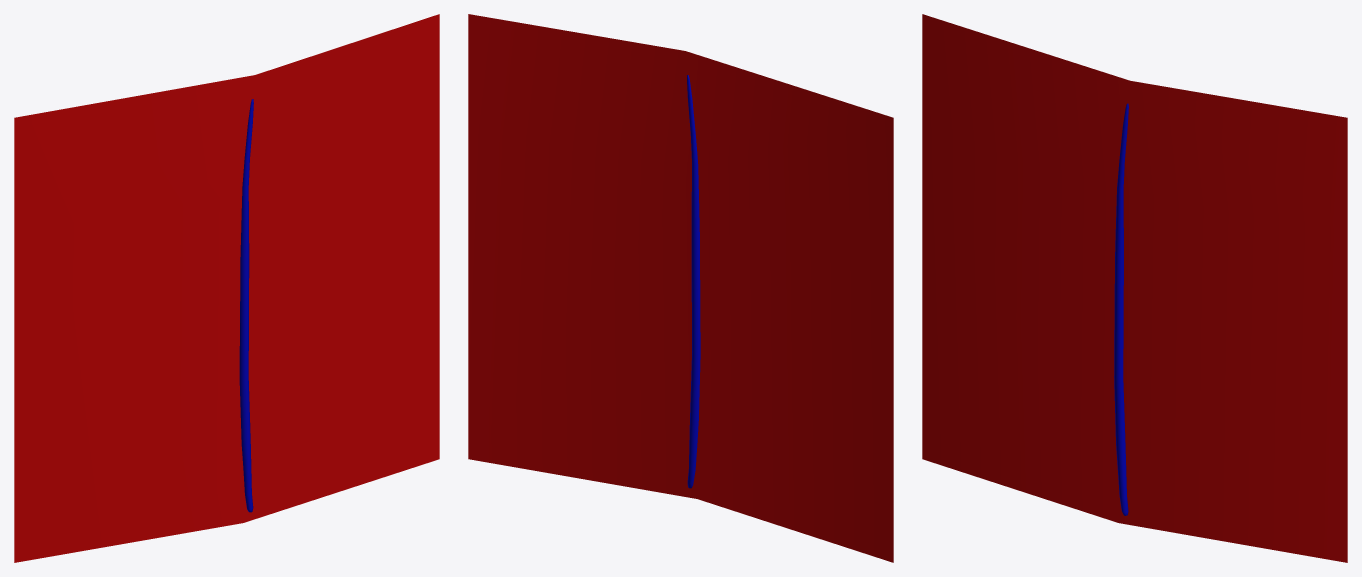
The model's file is GMP_feather_01.fbx.
The picture shows the model from 3 angles, left to right: view 1: azimuth 30°, elevation 25°; view 2: azimuth 150°, elevation 25°; view 3: azimuth 330°, elevation 25°; orthographic projection.
Parts seen in each view (by area): view 1: feather, stem; view 2: feather, stem; view 3: feather, stem.
Boxes of the visible parts, x1,y1,x2,y2 form: feather: [14, 14, 439, 562]; stem: [239, 99, 253, 512]; feather: [468, 14, 893, 562]; stem: [687, 75, 700, 488]; feather: [922, 14, 1347, 562]; stem: [1114, 103, 1128, 515].
Bounding box in the file's own units: 200 × 200 × 15.25.
